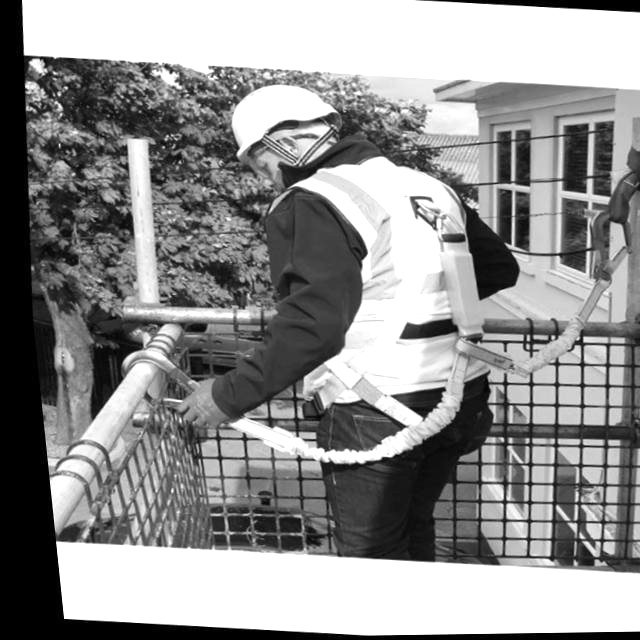safety belt: (234, 181, 527, 424)
